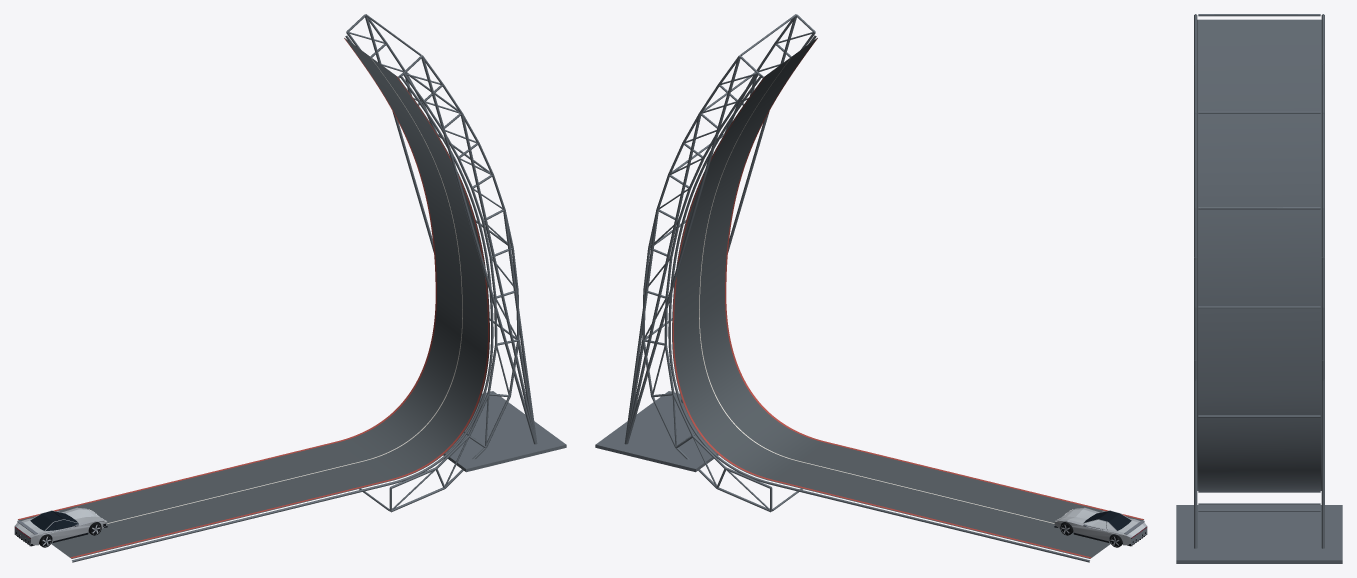
Rendered from roadster-scene.glb.
The picture shows the model from 3 angles, left to right: view 1: azimuth 30°, elevation 25°; view 2: azimuth 150°, elevation 25°; view 3: azimuth 270°, elevation 25°; orthographic projection. The views are drawn at different scales.
Parts seen in each view (by area): view 1: Launch_Ramp_visual_reconstruction; view 2: Launch_Ramp_visual_reconstruction; view 3: Launch_Ramp_visual_reconstruction.
Boxes of the visible parts, box(x1,y1,x2,y2) form: Launch_Ramp_visual_reconstruction: box(18, 14, 566, 562); Launch_Ramp_visual_reconstruction: box(595, 14, 1143, 562); Launch_Ramp_visual_reconstruction: box(1176, 14, 1342, 563).
Bounding box in the file's own units: 30.33 × 25.67 × 7.6.
